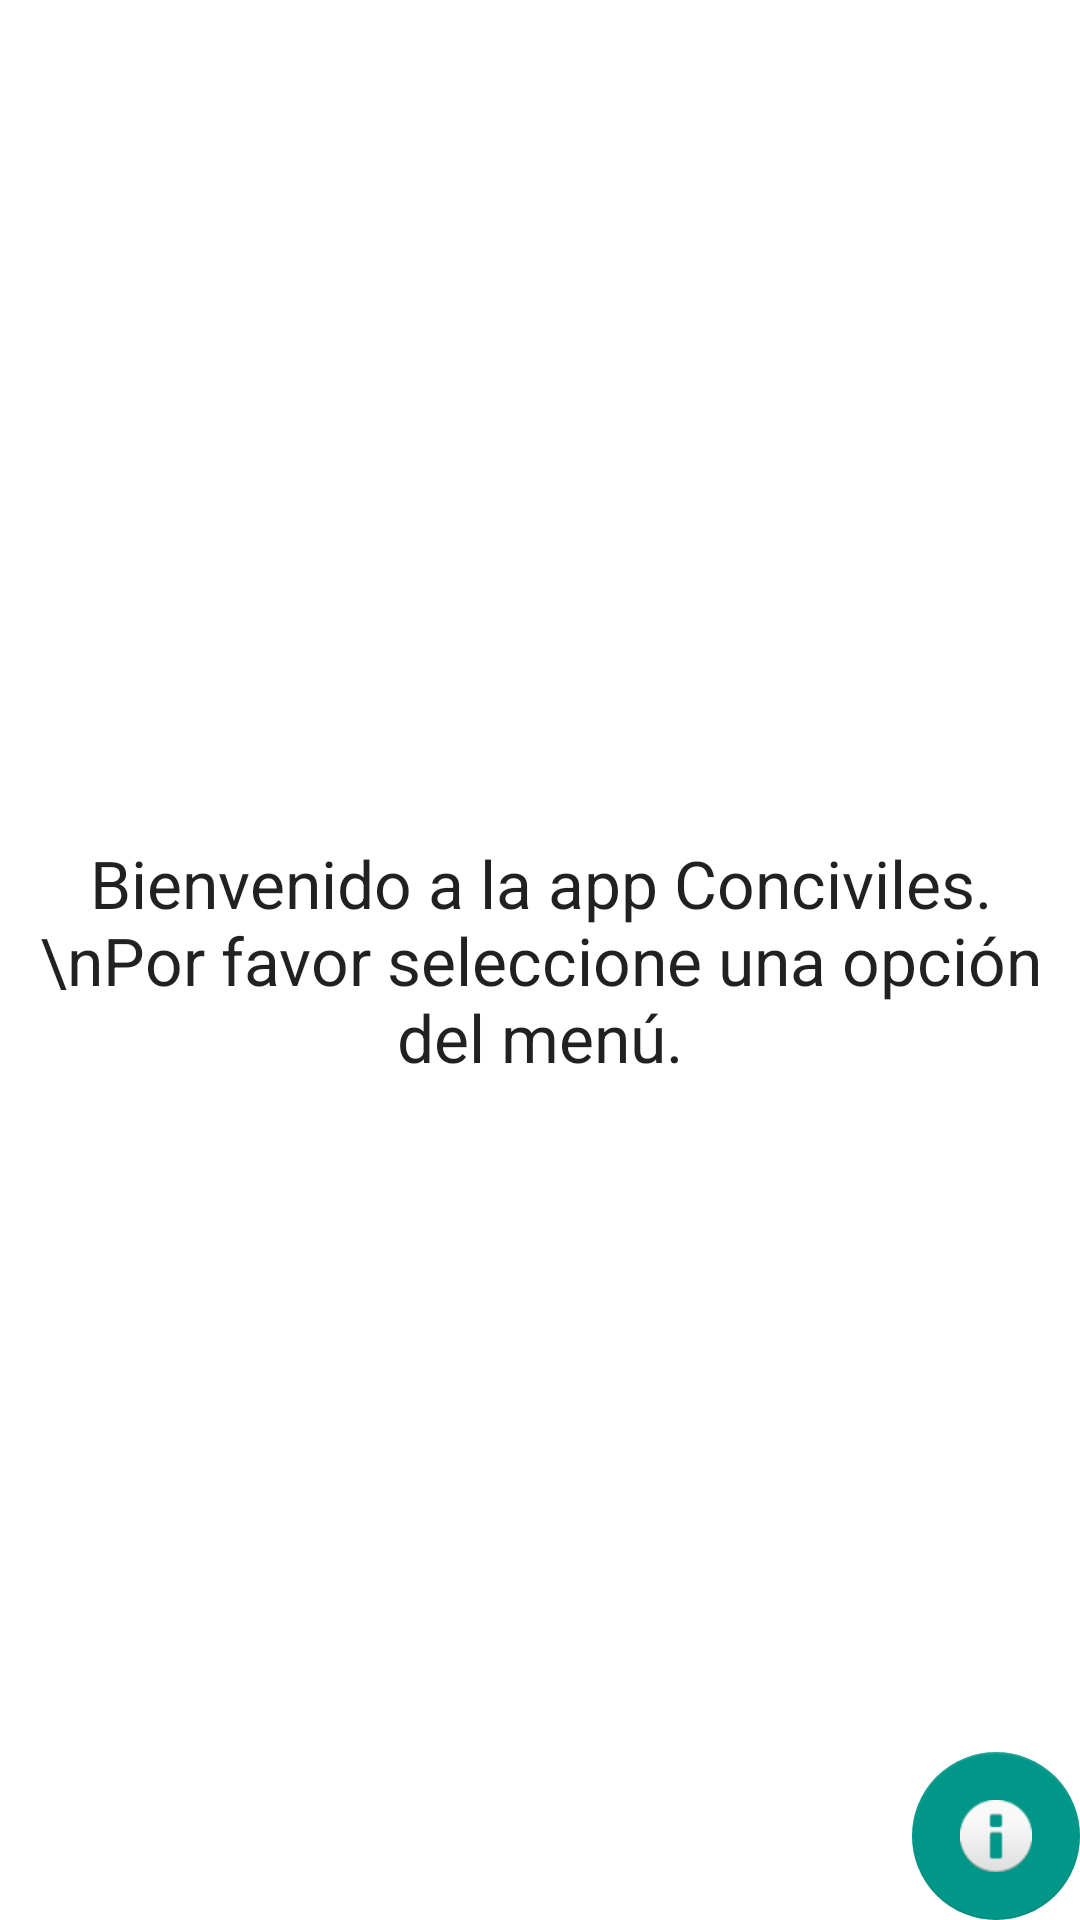

Icon click points for this 1080px x 1920px phone screenshot, format point (x, y):
info: point (996, 1836)
